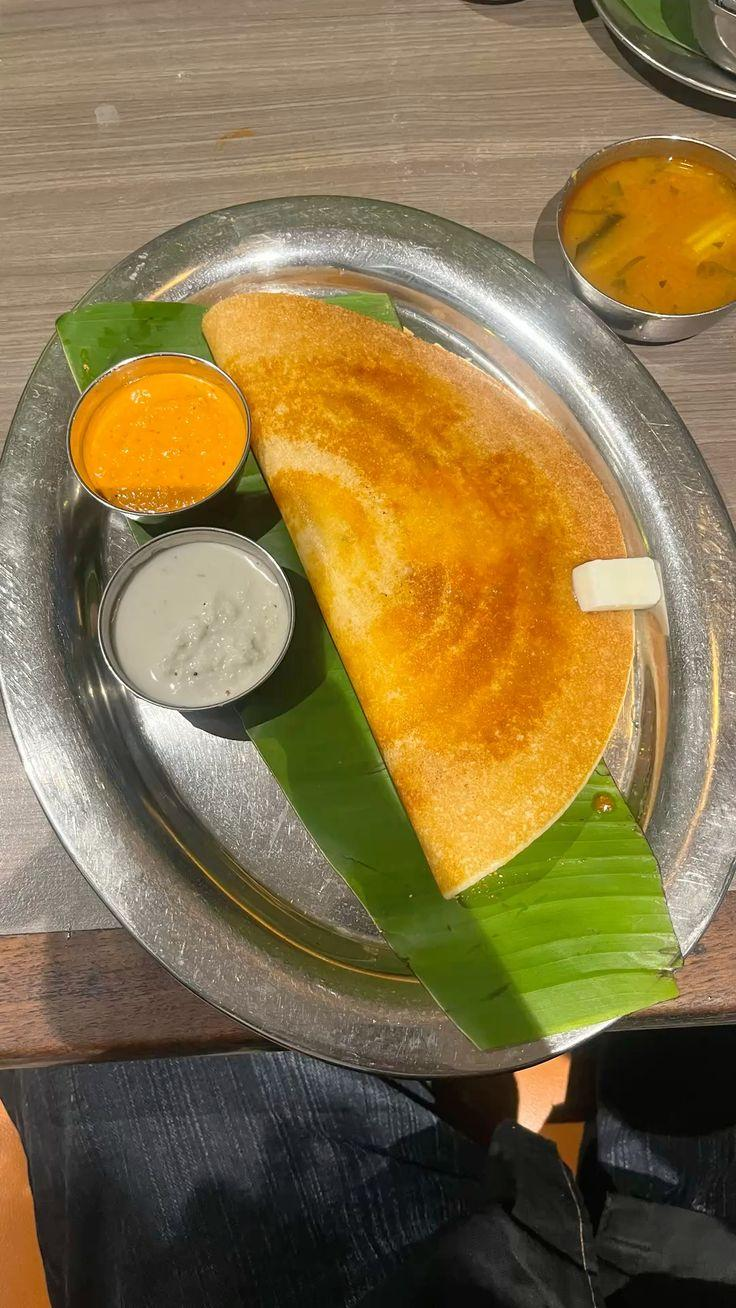dosa: (252, 300, 626, 911)
